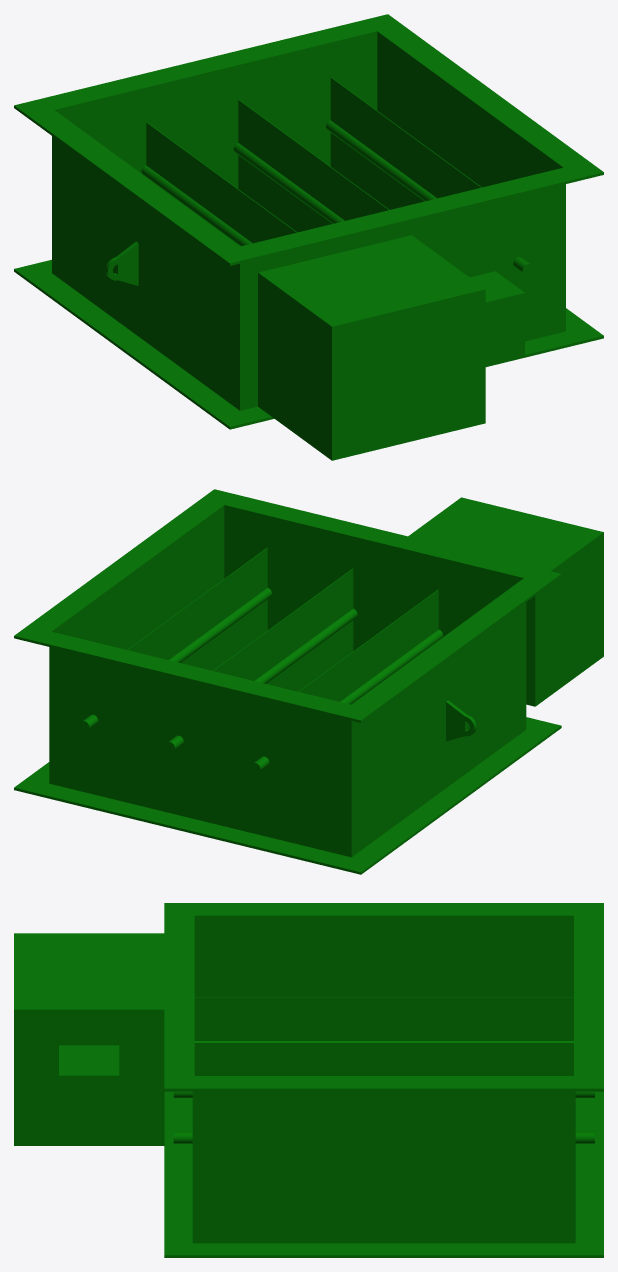
The model's file is Image-1711348127622-2280725540608_77-GE158_H.fbx.
3 views of the same model, one above another, from view 1: azimuth 30°, elevation 25°; view 2: azimuth 150°, elevation 25°; view 3: azimuth 270°, elevation 25° (orthographic). The views are drawn at different scales.
Visible parts, largest first — view 1: BOX 6 of EQUIPMENT /77-GE158_H, BOX 3 of EQUIPMENT /77-GE158_H, BOX 7 of EQUIPMENT /77-GE158_H, BOX 2 of EQUIPMENT /77-GE158_H, BOX 5 of EQUIPMENT /77-GE158_H, BOX 8 of EQUIPMENT /77-GE158_H, BOX 1 of EQUIPMENT /77-GE158_H, BOX 4 of EQUIPMENT /77-GE158_H, CYLINDER 2 of EQUIPMENT /77-GE158_H, CYLINDER 1 of EQUIPMENT /77-GE158_H, CYLINDER 3 of EQUIPMENT /77-GE158_H, PYRAMID 1 of EQUIPMENT /77-GE158_H; view 2: BOX 6 of EQUIPMENT /77-GE158_H, BOX 7 of EQUIPMENT /77-GE158_H, BOX 3 of EQUIPMENT /77-GE158_H, BOX 8 of EQUIPMENT /77-GE158_H, BOX 5 of EQUIPMENT /77-GE158_H, BOX 2 of EQUIPMENT /77-GE158_H, BOX 1 of EQUIPMENT /77-GE158_H, CYLINDER 1 of EQUIPMENT /77-GE158_H, CYLINDER 2 of EQUIPMENT /77-GE158_H, CYLINDER 3 of EQUIPMENT /77-GE158_H, PYRAMID 1 of EQUIPMENT /77-GE158_H; view 3: BOX 6 of EQUIPMENT /77-GE158_H, BOX 3 of EQUIPMENT /77-GE158_H, BOX 7 of EQUIPMENT /77-GE158_H, BOX 1 of EQUIPMENT /77-GE158_H, BOX 8 of EQUIPMENT /77-GE158_H, BOX 5 of EQUIPMENT /77-GE158_H, BOX 4 of EQUIPMENT /77-GE158_H, CYLINDER 3 of EQUIPMENT /77-GE158_H, CYLINDER 2 of EQUIPMENT /77-GE158_H.
Part boxes in pixels (x1,y1,x2,y2): BOX 6 of EQUIPMENT /77-GE158_H: (52, 34, 565, 410); BOX 3 of EQUIPMENT /77-GE158_H: (258, 235, 485, 460); BOX 7 of EQUIPMENT /77-GE158_H: (14, 14, 603, 265); BOX 2 of EQUIPMENT /77-GE158_H: (330, 77, 481, 209); BOX 5 of EQUIPMENT /77-GE158_H: (238, 100, 389, 232); BOX 8 of EQUIPMENT /77-GE158_H: (14, 259, 603, 429); BOX 1 of EQUIPMENT /77-GE158_H: (146, 122, 297, 243); BOX 4 of EQUIPMENT /77-GE158_H: (470, 271, 524, 366); CYLINDER 2 of EQUIPMENT /77-GE158_H: (326, 120, 532, 274); CYLINDER 1 of EQUIPMENT /77-GE158_H: (233, 143, 344, 223); CYLINDER 3 of EQUIPMENT /77-GE158_H: (141, 165, 252, 246); PYRAMID 1 of EQUIPMENT /77-GE158_H: (115, 241, 138, 285); BOX 6 of EQUIPMENT /77-GE158_H: (49, 507, 526, 857); BOX 7 of EQUIPMENT /77-GE158_H: (14, 489, 561, 722); BOX 3 of EQUIPMENT /77-GE158_H: (408, 497, 603, 706); BOX 8 of EQUIPMENT /77-GE158_H: (14, 717, 561, 874); BOX 5 of EQUIPMENT /77-GE158_H: (213, 568, 353, 691); BOX 2 of EQUIPMENT /77-GE158_H: (127, 548, 267, 670); BOX 1 of EQUIPMENT /77-GE158_H: (298, 589, 438, 701); CYLINDER 1 of EQUIPMENT /77-GE158_H: (165, 608, 357, 752); CYLINDER 2 of EQUIPMENT /77-GE158_H: (80, 587, 271, 731); CYLINDER 3 of EQUIPMENT /77-GE158_H: (251, 629, 442, 772); PYRAMID 1 of EQUIPMENT /77-GE158_H: (446, 700, 467, 741); BOX 6 of EQUIPMENT /77-GE158_H: (192, 918, 575, 1243); BOX 3 of EQUIPMENT /77-GE158_H: (14, 933, 164, 1145); BOX 7 of EQUIPMENT /77-GE158_H: (164, 903, 603, 1091); BOX 1 of EQUIPMENT /77-GE158_H: (194, 997, 573, 1040); BOX 8 of EQUIPMENT /77-GE158_H: (164, 1091, 603, 1257); BOX 5 of EQUIPMENT /77-GE158_H: (194, 1042, 573, 1075); BOX 4 of EQUIPMENT /77-GE158_H: (59, 1045, 119, 1141); CYLINDER 3 of EQUIPMENT /77-GE158_H: (194, 1041, 573, 1042); CYLINDER 2 of EQUIPMENT /77-GE158_H: (173, 1131, 594, 1143).
Size of the model in its own units: 0.76 by 0.98 by 0.31.
